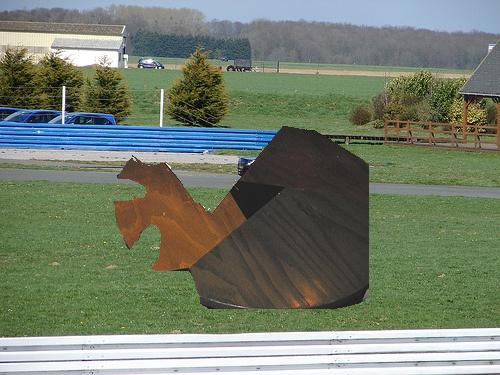tampered: (114, 127, 369, 309)
